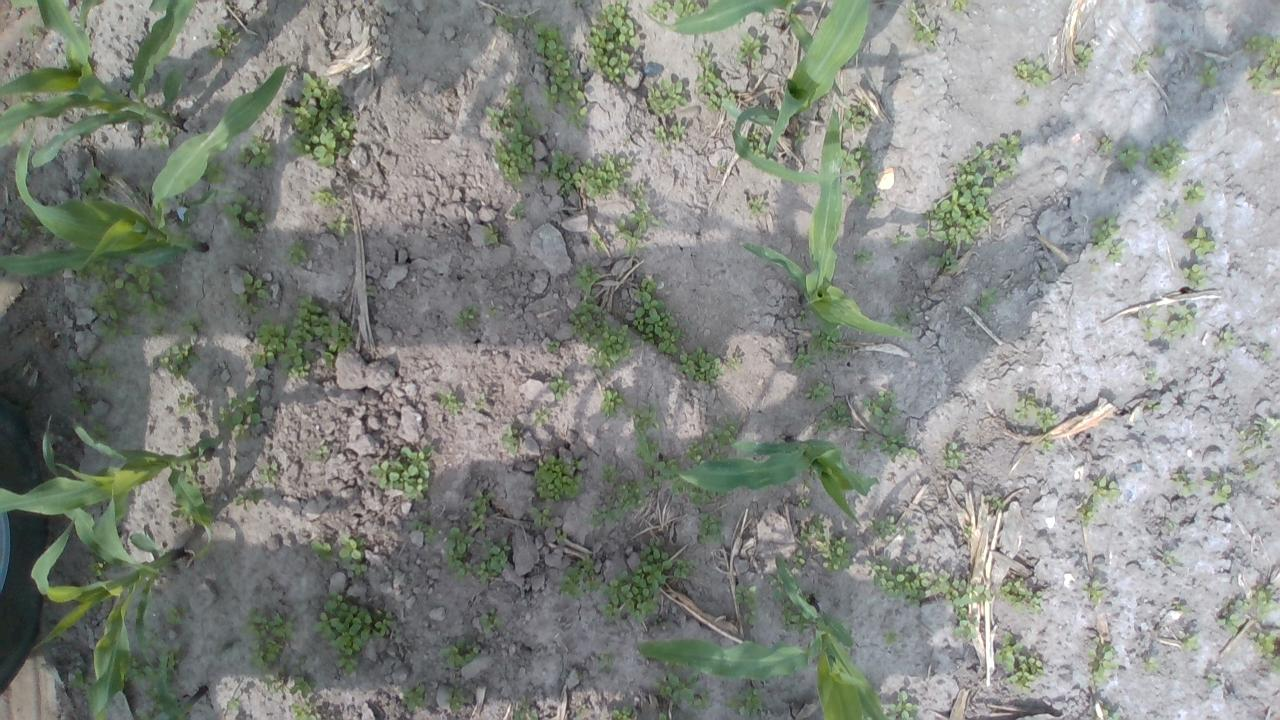Maize: (0, 62, 291, 280), (738, 107, 912, 345), (638, 559, 888, 720), (28, 490, 188, 720), (0, 412, 216, 579), (0, 0, 201, 166), (733, 0, 875, 182), (680, 432, 879, 526), (677, 0, 796, 34), (150, 655, 208, 720)
Weeds: (915, 134, 1021, 272), (250, 296, 352, 379), (287, 71, 358, 168), (598, 536, 674, 626), (484, 82, 542, 188), (532, 22, 588, 130), (310, 592, 372, 676), (566, 298, 635, 372), (585, 0, 642, 84), (864, 556, 950, 607), (630, 274, 684, 355), (369, 443, 434, 499), (238, 607, 296, 669), (799, 515, 854, 572), (994, 632, 1048, 690), (654, 664, 714, 714), (692, 47, 737, 113), (87, 288, 138, 344), (614, 198, 660, 258), (532, 449, 586, 500), (575, 152, 632, 198), (68, 350, 132, 390), (218, 389, 266, 442), (612, 476, 661, 526), (686, 422, 738, 468), (1140, 304, 1198, 344), (222, 190, 268, 240), (557, 554, 603, 602), (469, 536, 513, 586), (1244, 33, 1280, 94), (1144, 136, 1188, 184), (676, 345, 726, 386), (1078, 477, 1120, 525), (862, 389, 904, 436), (948, 578, 994, 618), (906, 0, 940, 51), (236, 134, 277, 176), (539, 148, 575, 195), (158, 342, 200, 382), (806, 322, 850, 360), (114, 260, 166, 292), (234, 269, 272, 312), (646, 76, 689, 114), (1089, 214, 1123, 262), (1010, 395, 1054, 432), (444, 527, 474, 581), (1084, 642, 1122, 684), (722, 685, 767, 720), (999, 577, 1043, 612), (1010, 55, 1054, 90), (142, 630, 183, 667), (140, 668, 169, 720), (336, 531, 369, 576), (1238, 586, 1280, 621), (1247, 630, 1280, 674), (844, 170, 882, 208), (814, 400, 854, 435), (440, 634, 480, 669), (880, 689, 920, 720), (284, 656, 312, 698), (673, 480, 715, 508), (734, 584, 761, 627), (18, 210, 51, 245), (780, 600, 812, 636), (696, 510, 728, 546), (573, 262, 603, 300), (208, 26, 241, 60), (74, 256, 114, 284), (406, 510, 437, 546), (878, 432, 916, 461), (144, 120, 176, 154), (400, 680, 432, 714), (1184, 224, 1216, 257), (1250, 415, 1280, 450), (626, 404, 660, 434), (468, 490, 492, 530), (80, 166, 106, 202), (1205, 474, 1232, 507), (839, 144, 873, 170), (138, 292, 168, 320), (478, 606, 508, 634), (176, 310, 208, 336), (737, 32, 762, 65), (1072, 40, 1096, 74), (1116, 144, 1143, 174), (598, 388, 624, 419), (1170, 472, 1202, 497), (1180, 181, 1208, 209), (744, 128, 768, 160), (322, 214, 351, 240), (86, 420, 115, 446), (494, 14, 531, 34), (941, 441, 968, 468), (548, 376, 576, 402), (1216, 608, 1242, 636), (841, 105, 870, 130), (311, 188, 343, 210), (374, 611, 396, 642), (526, 504, 552, 530), (1180, 262, 1206, 288), (510, 696, 538, 720), (673, 0, 703, 22), (804, 380, 834, 402), (170, 501, 196, 526), (438, 391, 465, 415), (654, 126, 686, 146), (454, 304, 479, 329), (202, 159, 226, 185), (853, 432, 880, 455), (977, 287, 1001, 312), (872, 515, 896, 540), (177, 392, 200, 418), (590, 503, 612, 530), (950, 620, 976, 642), (1196, 62, 1218, 88), (286, 241, 308, 267), (766, 572, 786, 600), (447, 686, 467, 714), (86, 556, 110, 579), (21, 20, 45, 43), (791, 345, 815, 368), (499, 426, 518, 455), (263, 669, 285, 694), (256, 460, 283, 480), (1158, 207, 1182, 229), (291, 703, 322, 720), (672, 558, 697, 579), (311, 541, 334, 563), (125, 656, 144, 682), (70, 670, 92, 692), (656, 460, 680, 480), (308, 444, 333, 462), (68, 398, 91, 417), (1084, 580, 1105, 600), (648, 0, 672, 17), (128, 185, 152, 202), (1216, 330, 1236, 350), (596, 652, 616, 672), (1094, 706, 1122, 720), (232, 492, 262, 505), (1131, 55, 1151, 74), (1240, 462, 1260, 481), (611, 705, 636, 720), (534, 407, 552, 426), (590, 233, 607, 253), (1182, 634, 1200, 652), (749, 197, 766, 216), (165, 606, 185, 622), (798, 308, 817, 324), (644, 436, 659, 456), (882, 631, 902, 646), (792, 548, 806, 569), (602, 463, 618, 481), (482, 227, 498, 245), (896, 310, 914, 326), (224, 698, 242, 714), (1142, 658, 1160, 674), (1039, 437, 1058, 452), (854, 250, 874, 264), (1161, 550, 1178, 566), (1100, 136, 1115, 154), (986, 496, 1004, 510), (1168, 603, 1188, 615), (150, 323, 164, 340), (474, 393, 488, 410), (1204, 673, 1219, 688), (1145, 368, 1159, 384), (950, 0, 970, 11), (894, 234, 912, 246), (794, 127, 808, 142), (546, 339, 561, 353), (629, 184, 642, 200), (1146, 402, 1162, 414), (1014, 96, 1030, 108), (510, 205, 525, 217), (1150, 46, 1166, 57), (901, 523, 914, 536), (552, 530, 566, 542), (1260, 350, 1274, 362), (176, 193, 189, 205), (727, 356, 740, 368), (364, 286, 377, 298), (630, 446, 642, 458), (1240, 444, 1252, 456), (1167, 518, 1178, 530), (1235, 429, 1247, 440), (798, 498, 811, 508), (273, 105, 287, 114), (16, 94, 30, 103), (487, 307, 498, 318), (800, 590, 810, 600), (963, 526, 972, 537), (657, 711, 666, 720)
